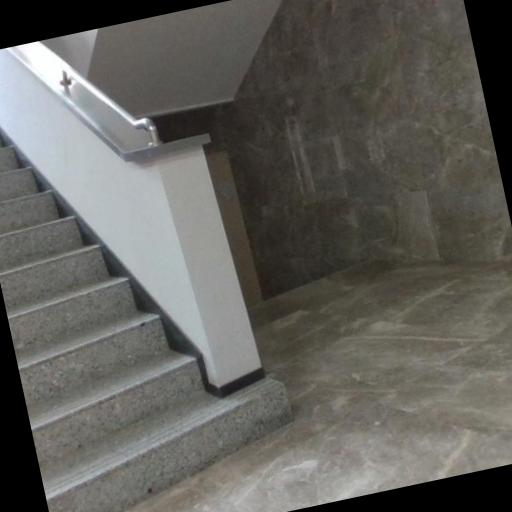stairs: (0, 139, 291, 511)
